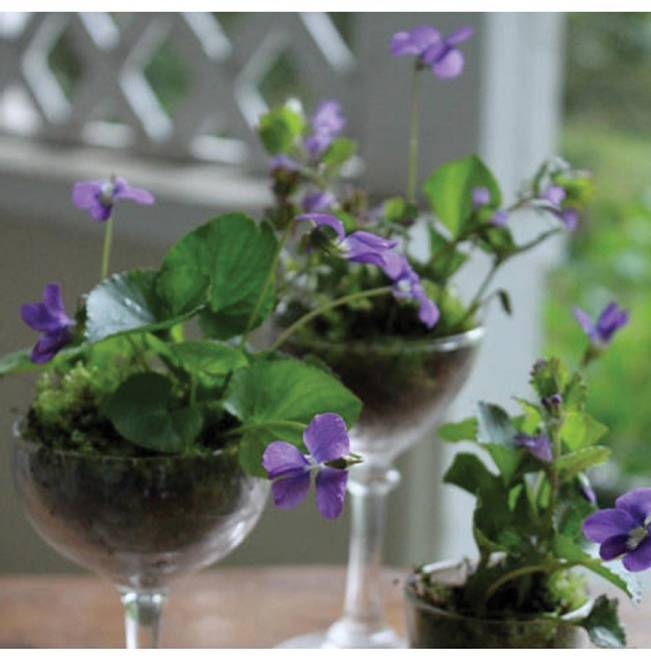violet: (256, 410, 367, 526), (296, 199, 410, 295), (60, 165, 146, 236), (589, 482, 651, 573), (13, 284, 79, 367)
